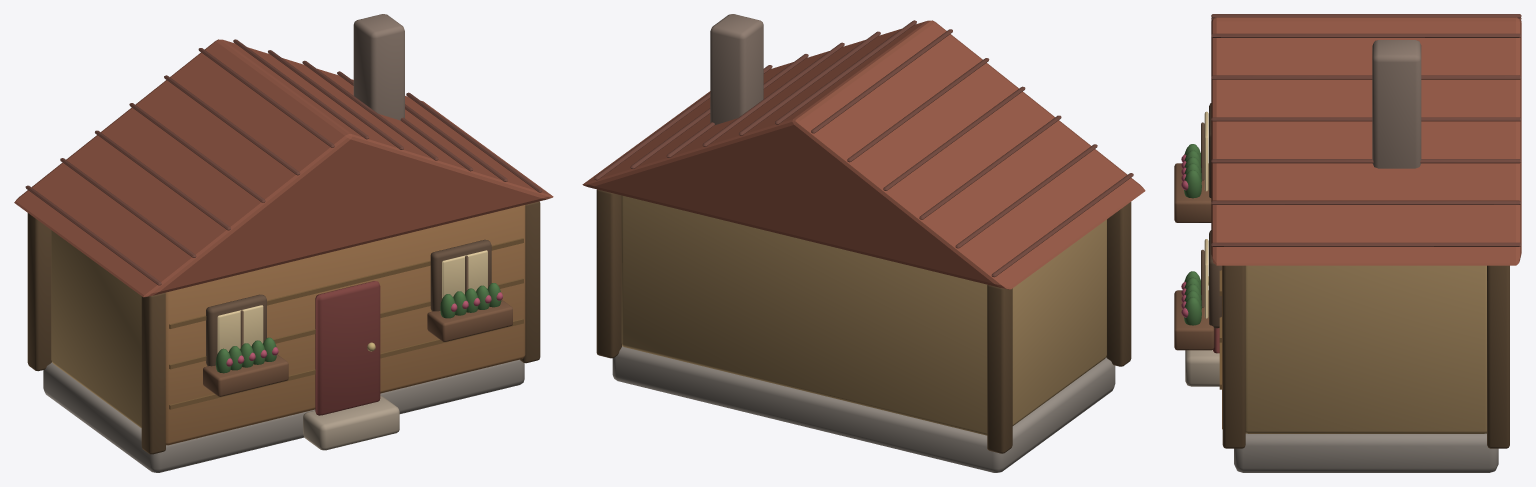
Rendered from res_moss1.glb.
The picture shows the model from 3 angles, left to right: view 1: azimuth 30°, elevation 25°; view 2: azimuth 150°, elevation 25°; view 3: azimuth 270°, elevation 25°; orthographic projection. The views are drawn at different scales.
Parts seen in each view (by area): view 1: roof, walls, stone, frame, berry; view 2: roof, walls, stone, frame; view 3: roof, walls, stone, frame, berry.
Part boxes in pixels (x1=…): roof: x1=14, y1=39, x2=553, y2=297; walls: x1=51, y1=205, x2=525, y2=445; stone: x1=43, y1=14, x2=524, y2=472; frame: x1=27, y1=201, x2=540, y2=454; berry: x1=203, y1=283, x2=512, y2=396; roof: x1=582, y1=20, x2=1145, y2=289; walls: x1=621, y1=195, x2=1106, y2=435; stone: x1=612, y1=14, x2=1115, y2=472; frame: x1=596, y1=189, x2=1131, y2=453; roof: x1=1211, y1=14, x2=1521, y2=265; walls: x1=1201, y1=103, x2=1486, y2=433; stone: x1=1185, y1=40, x2=1498, y2=472; frame: x1=1222, y1=265, x2=1509, y2=448; berry: x1=1174, y1=144, x2=1214, y2=350.
Bounding box in the file's own units: 3.6 × 2.78 × 2.27.
